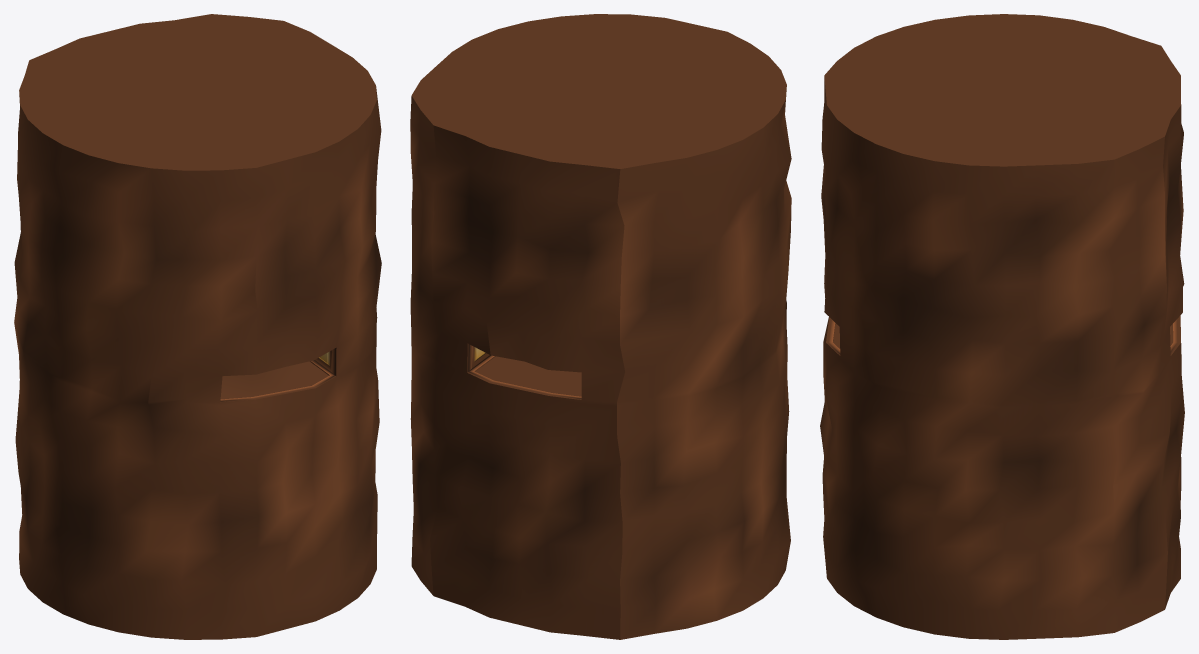
The model's file is LargeTree_Middle2_1.1.fbx.
3 renders of one model, left to right at view 1: azimuth 30°, elevation 25°; view 2: azimuth 150°, elevation 25°; view 3: azimuth 270°, elevation 25°, orthographic.
Visible parts, largest first — view 1: LargeTree_Middle2; view 2: LargeTree_Middle2; view 3: LargeTree_Middle2.
Boxes of the visible parts, box(x1,y1,x2,y2) form: LargeTree_Middle2: box(14, 14, 381, 639); LargeTree_Middle2: box(410, 14, 791, 639); LargeTree_Middle2: box(820, 14, 1184, 639).
Size of the model in its own units: 838 by 1189 by 830.
